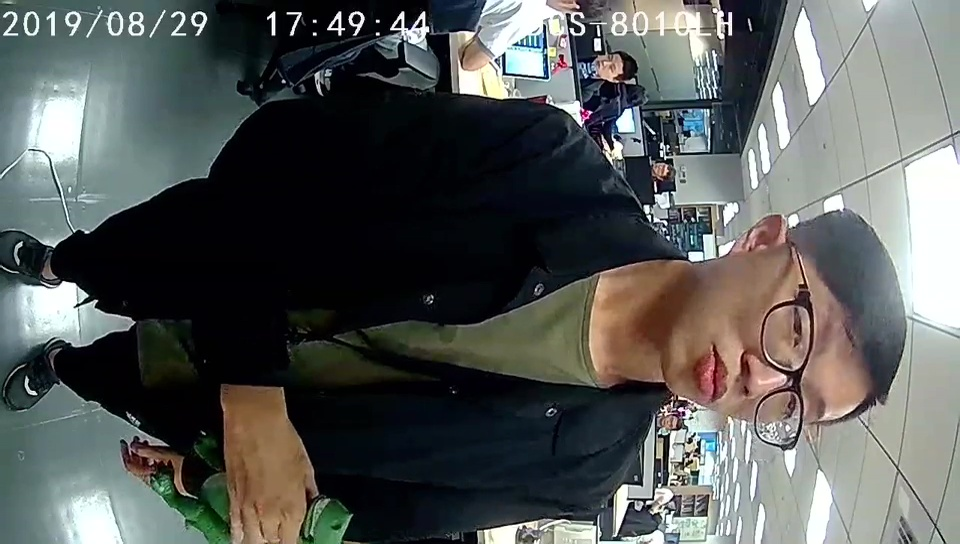rex: (149, 427, 355, 544)
